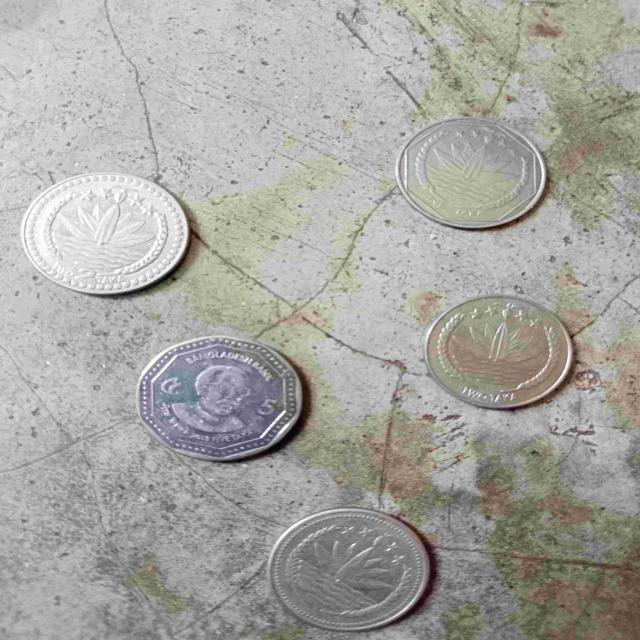1_taka: (237, 492, 477, 640), (390, 98, 560, 248)
2_taka: (400, 278, 597, 423), (15, 161, 198, 302)
5_taka: (117, 329, 333, 472)
